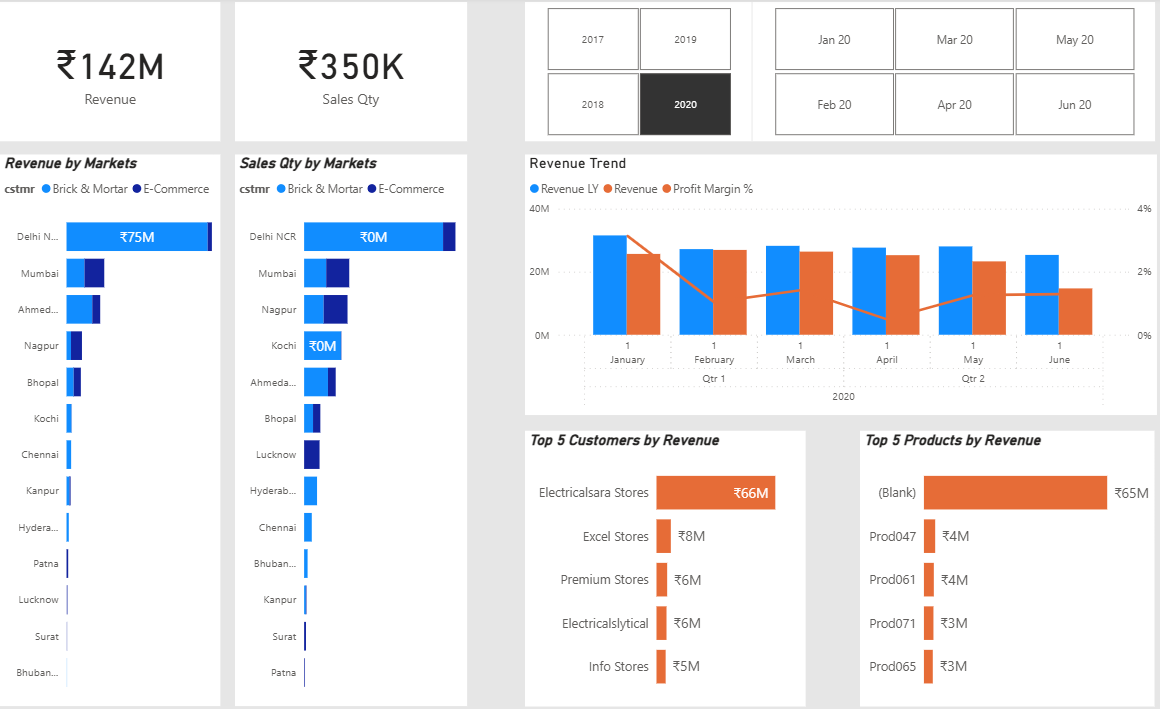

The page's visual inventory and layout, read from the dashboard file:
{"tool":"powerbi","page":{"name":"Key Insights","canvas":[1350,850],"ordinal":0},"visuals":[{"type":"card","fields":{"Values":["Base Measures.Revenue"]},"box":[0,5.8,254.7,160.6],"z":0},{"type":"card","fields":{"Values":["Base Measures.Sales Qty"]},"box":[270.6,5.8,267.7,160.6],"z":1000},{"type":"barChart","title":"Revenue by Markets","fields":{"Y":["Base Measures.Revenue"],"Category":["sales markets.markets_name"],"Series":["sales customers.customer_type"]},"box":[0,182.4,254.7,636.8],"z":2000},{"type":"barChart","title":"Sales Qty by Markets","fields":{"Y":["Base Measures.Sales Qty"],"Category":["sales markets.markets_name"],"Series":["sales customers.customer_type"]},"box":[270.6,182.4,267.7,636.8],"z":3000},{"type":"slicer","fields":{"Values":["sales date.year"]},"box":[606.4,5.8,262,160.6],"z":4000},{"type":"slicer","fields":{"Values":["sales date.cy_date"]},"box":[868.4,5.8,464.6,160.6],"z":5000},{"type":"barChart","title":"Top 5 Customers by Revenue","fields":{"Y":["Base Measures.Revenue"],"Category":["sales customers.custmer_name"]},"box":[606.4,500.8,324.2,318.4],"z":6000},{"type":"barChart","title":"Top 5 Products by Revenue","fields":{"Y":["Base Measures.Revenue"],"Category":["sales products.product_code"]},"box":[992.8,500.8,340.1,318.4],"z":7000},{"type":"lineClusteredColumnComboChart","title":"Revenue Trend","fields":{"Category":["sales date.cy_date.Variation.Date Hierarchy.Year","sales date.cy_date.Variation.Date Hierarchy.Quarter","sales date.cy_date.Variation.Date Hierarchy.Month","sales date.cy_date.Variation.Date Hierarchy.Day"],"Y":["Base Measures.Revenue LY","Base Measures.Revenue"],"Y2":["Base Measures.Profit Margin %"]},"box":[606.4,182.4,729.4,301],"z":8000}]}

Visuals, with their boxes on the page's 1350x850 design canvas (x1, y1, x2, y2). These are canvas units, not pixel positions in the 1160x709 screenshot, which may show the page scaled, cropped or inside an application window:
card - Base Measures.Revenue: (0,6,255,166)
card - Base Measures.Sales Qty: (271,6,538,166)
"Revenue by Markets" barChart: (0,182,255,819)
"Sales Qty by Markets" barChart: (271,182,538,819)
slicer - sales date.year: (606,6,868,166)
slicer - sales date.cy_date: (868,6,1333,166)
"Top 5 Customers by Revenue" barChart: (606,501,931,819)
"Top 5 Products by Revenue" barChart: (993,501,1333,819)
"Revenue Trend" lineClusteredColumnComboChart: (606,182,1336,483)
